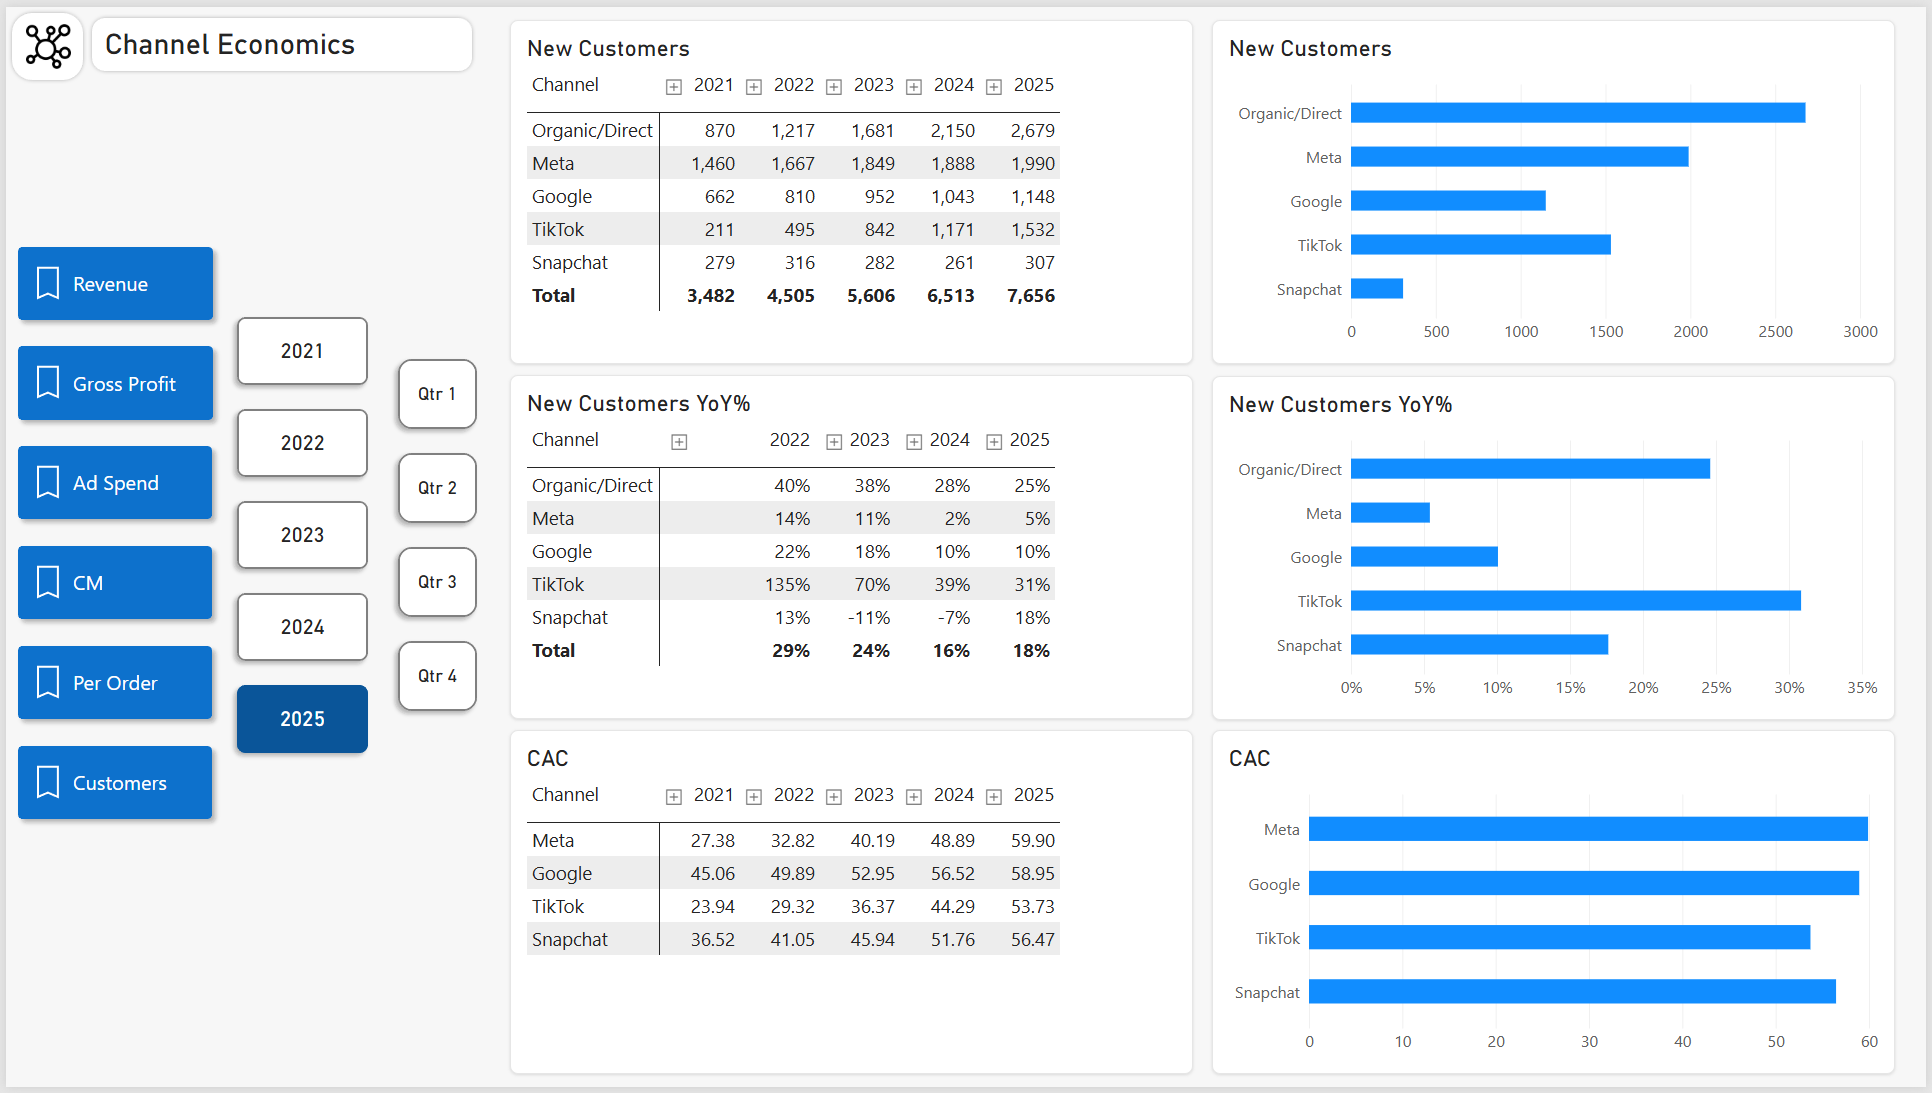

This screenshot's page, from the dashboard's own definition file:
{"tool":"powerbi","page":{"name":"Channel Economics","canvas":[1920,1080],"ordinal":4},"visuals":[{"type":"shape","box":[2,2,79.2,74.6],"z":0},{"type":"pivotTable","title":"New Customers","fields":{"Rows":["dtc dim_channel.channel_name"],"Columns":["dtc dim_date.date.Variation.Date Hierarchy.Year","dtc dim_date.date.Variation.Date Hierarchy.Quarter","dtc dim_date.date.Variation.Date Hierarchy.Month","dtc dim_date.date.Variation.Date Hierarchy.Day"],"Values":["dtc fact_ad_spend.New Customers Acquired"]},"box":[503.5,12.5,683.2,343.7],"z":0,"group":"g1"},{"type":"shape","box":[82,7,388.3,61.3],"z":1000},{"type":"pivotTable","title":"CAC","fields":{"Rows":["dtc dim_channel.channel_name"],"Columns":["dtc dim_date.date.Variation.Date Hierarchy.Year","dtc dim_date.date.Variation.Date Hierarchy.Quarter","dtc dim_date.date.Variation.Date Hierarchy.Month","dtc dim_date.date.Variation.Date Hierarchy.Day"],"Values":["dtc fact_ad_spend.CAC (Paid Only)"]},"box":[503.5,722.8,683.2,343.7],"z":1000,"group":"g1"},{"type":"actionButton","box":[3.5,230.6,212,91.5],"z":2000},{"type":"clusteredBarChart","title":"CAC","fields":{"Category":["dtc dim_channel.channel_name"],"Y":["dtc fact_ad_spend.CAC (Paid Only)"]},"box":[1205.5,722.8,683.2,343.7],"z":2000,"group":"g1"},{"type":"clusteredBarChart","title":"New Customers","fields":{"Category":["dtc dim_channel.channel_name"],"Y":["dtc fact_ad_spend.New Customers Acquired"]},"box":[1205.5,12.5,683.2,343.7],"z":3000,"group":"g1"},{"type":"actionButton","box":[3.5,330,212,91.5],"z":3000},{"type":"pivotTable","title":"New Customers YoY%","fields":{"Rows":["dtc dim_channel.channel_name"],"Columns":["dtc dim_date.date.Variation.Date Hierarchy.Year","dtc dim_date.date.Variation.Date Hierarchy.Quarter","dtc dim_date.date.Variation.Date Hierarchy.Month","dtc dim_date.date.Variation.Date Hierarchy.Day"],"Values":["dtc fact_ad_spend.New Customers Acquired YoY%"]},"box":[503.5,367.7,683.2,343.7],"z":4000,"group":"g1"},{"type":"actionButton","box":[3.5,430,212,91],"z":4000},{"type":"clusteredBarChart","title":"New Customers YoY%","fields":{"Category":["dtc dim_channel.channel_name"],"Y":["dtc fact_ad_spend.New Customers Acquired YoY%"]},"box":[1205.5,368.7,683.2,343.7],"z":5000,"group":"g1"},{"type":"actionButton","box":[3,530,212,91],"z":5000},{"type":"actionButton","box":[3,630,212,91],"z":6000},{"type":"actionButton","box":[3,730,212,91],"z":7000},{"type":"advancedSlicerVisual","fields":{"Values":["dtc dim_date.date.Variation.Date Hierarchy.Quarter"]},"box":[383.5,344.2,95.1,369.8],"z":8000},{"type":"advancedSlicerVisual","fields":{"Values":["dtc dim_date.date.Variation.Date Hierarchy.Year"]},"box":[222.6,302.4,147.3,453.4],"z":9000},{"type":"group","id":"g1","title":"Customers","box":[503.5,12.5,1385.2,1054],"z":11000},{"type":"textbox","box":[99,20,350,39.6],"z":16000},{"type":"image","box":[19.8,15.8,45.5,47.4],"z":17000}]}

Visuals, with their boxes in screenshot pixels (x1, y1, x2, y2), scaled from the page's 1920x1080 canvas onto the 1932x1093 screenshot:
shape: rect(2, 2, 82, 78)
"New Customers" pivotTable: rect(507, 13, 1194, 360)
shape: rect(83, 7, 473, 69)
"CAC" pivotTable: rect(507, 732, 1194, 1079)
actionButton: rect(4, 233, 217, 326)
"CAC" clusteredBarChart: rect(1213, 732, 1901, 1079)
"New Customers" clusteredBarChart: rect(1213, 13, 1901, 360)
actionButton: rect(4, 334, 217, 427)
"New Customers YoY%" pivotTable: rect(507, 372, 1194, 720)
actionButton: rect(4, 435, 217, 527)
"New Customers YoY%" clusteredBarChart: rect(1213, 373, 1901, 721)
actionButton: rect(3, 536, 216, 628)
actionButton: rect(3, 638, 216, 730)
actionButton: rect(3, 739, 216, 831)
advancedSlicerVisual - dtc dim_date.date.Variation.Date Hierarchy.Quarter: rect(386, 348, 482, 723)
advancedSlicerVisual - dtc dim_date.date.Variation.Date Hierarchy.Year: rect(224, 306, 372, 765)
"Customers" group: rect(507, 13, 1901, 1079)
textbox: rect(100, 20, 452, 60)
image: rect(20, 16, 66, 64)
